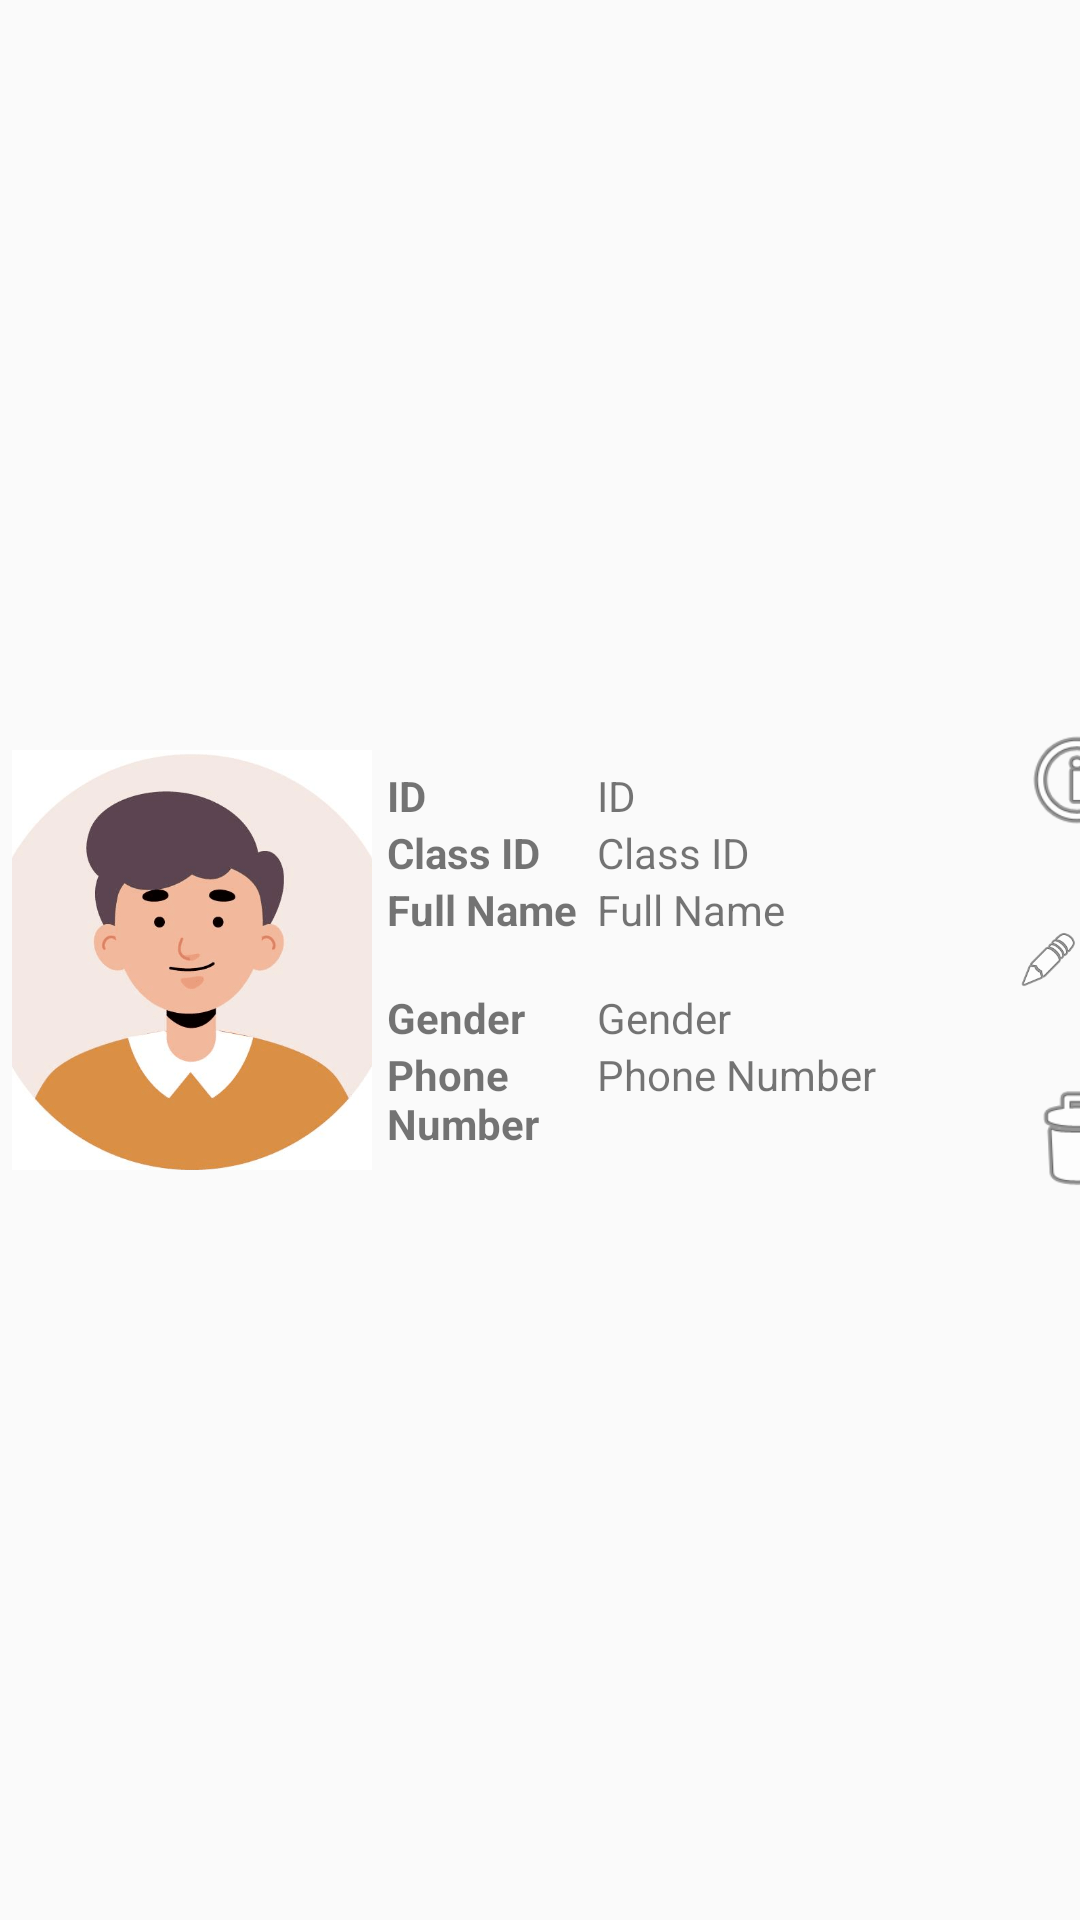

Icons on this 1080x1920 Android screen, each with the point to tap as point (x, y):
edit: point (1048, 959)
